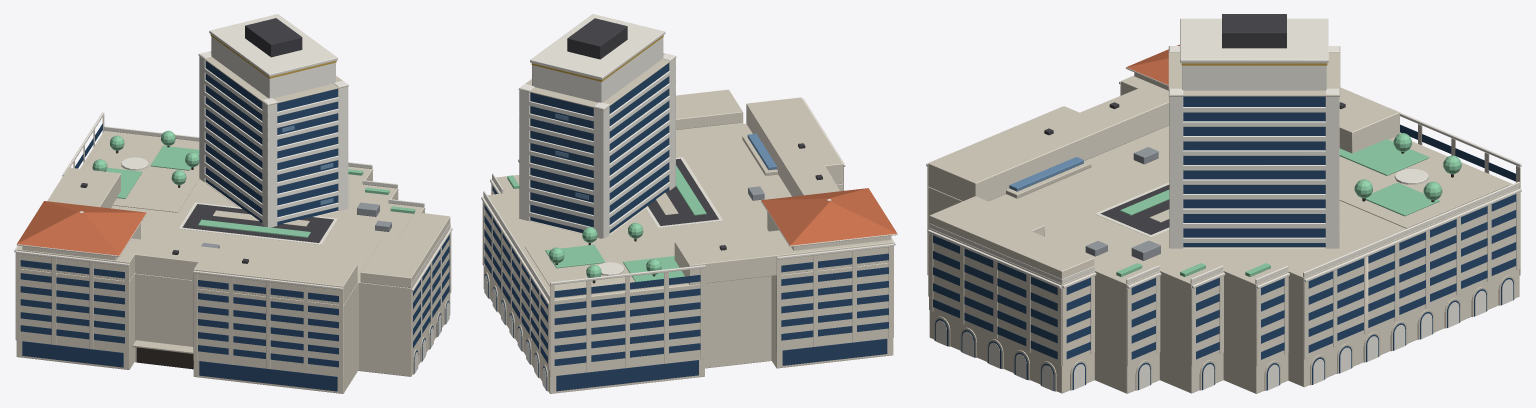
File: 345-spear.glb
The picture shows the model from 3 angles, left to right: view 1: azimuth 30°, elevation 25°; view 2: azimuth 150°, elevation 25°; view 3: azimuth 270°, elevation 25°; orthographic projection. The views are drawn at different scales.
Visible parts, largest first — view 1: grp_Toy_sand_Toy_stone, grp_Toy_glass, grp_Toy_white, grp_Toy_trim, grp_Toy_stone, grp_Toy_sand, pav_hip, grp_Toy_roofd, grp_Toy_navy, grp_Toy_mint, grp_Toy_ink, grp_Toy_steel; view 2: grp_Toy_sand_Toy_stone, grp_Toy_glass, grp_Toy_white, grp_Toy_trim, grp_Toy_sand, grp_Toy_stone, pav_hip, grp_Toy_navy, grp_Toy_roofd, grp_Toy_mint, grp_Toy_white_Glow, skylight_glass; view 3: grp_Toy_sand_Toy_stone, grp_Toy_glass, grp_Toy_white, grp_Toy_trim, grp_Toy_stone, grp_Toy_sand, grp_Toy_mint, grp_Toy_white_Glow, grp_Toy_roofd, grp_Toy_steel, pav_hip, skylight_glass.
Part boxes in pixels (bbox=[...]): grp_Toy_sand_Toy_stone: bbox=[16, 130, 450, 393]; grp_Toy_glass: bbox=[20, 61, 449, 373]; grp_Toy_white: bbox=[199, 36, 348, 227]; grp_Toy_trim: bbox=[14, 14, 452, 291]; grp_Toy_stone: bbox=[84, 51, 449, 374]; grp_Toy_sand: bbox=[15, 115, 451, 377]; pav_hip: bbox=[17, 201, 146, 255]; grp_Toy_roofd: bbox=[80, 18, 333, 263]; grp_Toy_navy: bbox=[22, 341, 337, 391]; grp_Toy_mint: bbox=[92, 130, 415, 237]; grp_Toy_ink: bbox=[116, 146, 193, 369]; grp_Toy_steel: bbox=[201, 202, 391, 248]; grp_Toy_sand_Toy_stone: bbox=[483, 89, 893, 393]; grp_Toy_glass: bbox=[484, 63, 888, 390]; grp_Toy_white: bbox=[519, 37, 675, 238]; grp_Toy_trim: bbox=[481, 14, 897, 304]; grp_Toy_sand: bbox=[482, 167, 893, 376]; grp_Toy_stone: bbox=[484, 53, 777, 391]; pav_hip: bbox=[761, 188, 897, 245]; grp_Toy_navy: bbox=[556, 338, 887, 391]; grp_Toy_roofd: bbox=[567, 18, 822, 250]; grp_Toy_mint: bbox=[507, 165, 706, 281]; grp_Toy_white_Glow: bbox=[484, 275, 546, 389]; skylight_glass: bbox=[747, 133, 776, 170]; grp_Toy_sand_Toy_stone: bbox=[928, 76, 1519, 393]; grp_Toy_glass: bbox=[933, 96, 1516, 391]; grp_Toy_white: bbox=[1169, 46, 1339, 248]; grp_Toy_trim: bbox=[926, 18, 1521, 288]; grp_Toy_stone: bbox=[934, 46, 1514, 391]; grp_Toy_sand: bbox=[927, 72, 1520, 365]; grp_Toy_mint: bbox=[1116, 133, 1461, 276]; grp_Toy_white_Glow: bbox=[936, 279, 1513, 390]; grp_Toy_roofd: bbox=[1044, 14, 1345, 234]; grp_Toy_steel: bbox=[1085, 147, 1160, 260]; pav_hip: bbox=[1126, 44, 1179, 84]; skylight_glass: bbox=[1009, 157, 1083, 191].
Bounding box in the file's own units: 106 × 68.5 × 119.
